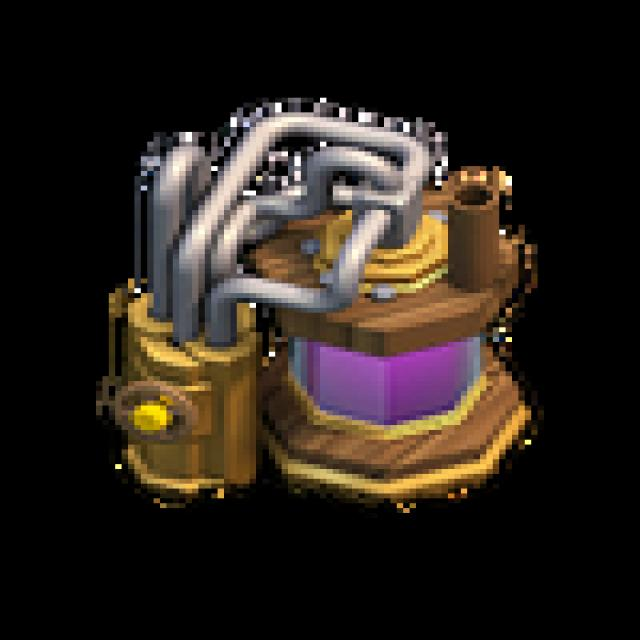elixir_collector: (59, 72, 567, 539)
